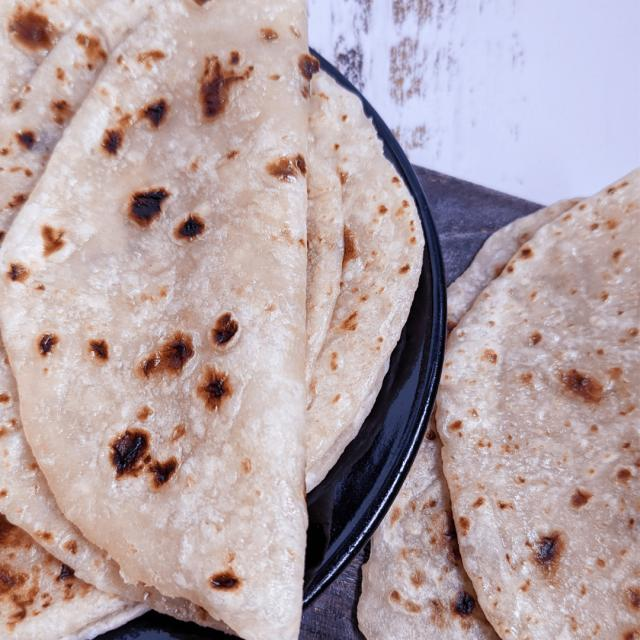ROTI: (0, 0, 318, 639), (437, 171, 639, 639), (305, 72, 424, 491), (357, 405, 499, 639), (447, 199, 584, 349)
